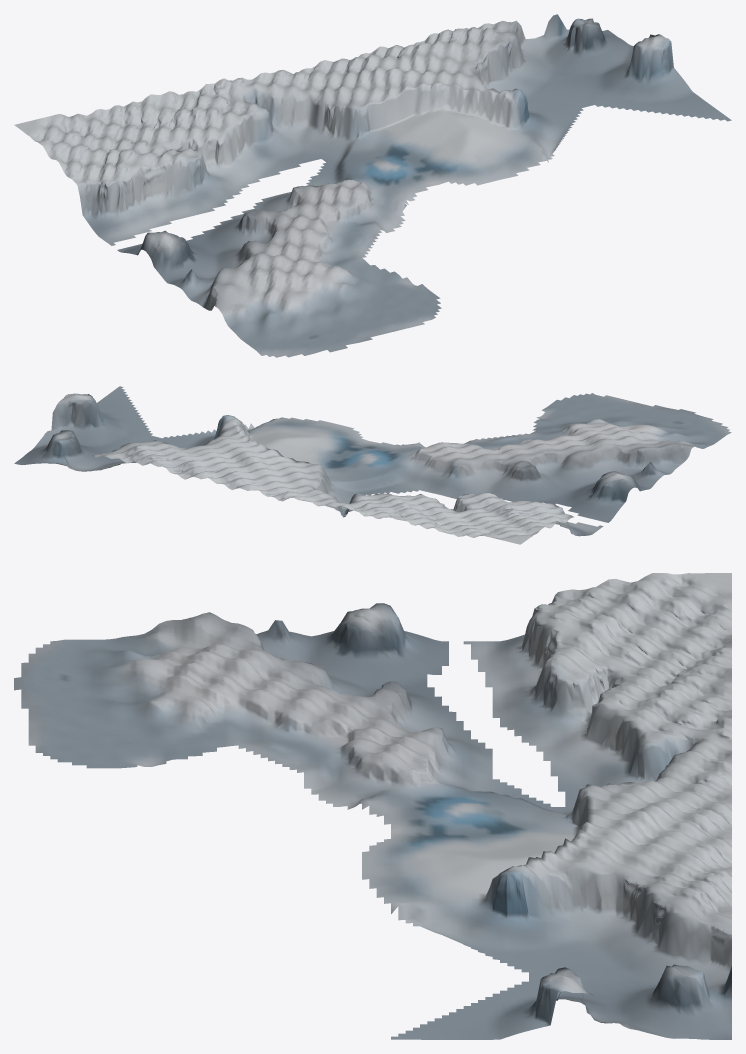
Rendered from frost_tile_x1z1.glb.
The picture shows the model from 3 angles, top to bottom: view 1: azimuth 30°, elevation 25°; view 2: azimuth 150°, elevation 25°; view 3: azimuth 270°, elevation 25°; orthographic projection. The views are drawn at different scales.
Parts seen in each view (by area): view 1: frost_tile_x1z1; view 2: frost_tile_x1z1; view 3: frost_tile_x1z1.
Boxes of the visible parts, box(x1,y1,x2,y2) form: frost_tile_x1z1: box(14, 14, 731, 357); frost_tile_x1z1: box(14, 386, 731, 544); frost_tile_x1z1: box(14, 573, 731, 1039).
Size of the model in its own units: 976 by 78.58 by 742.
